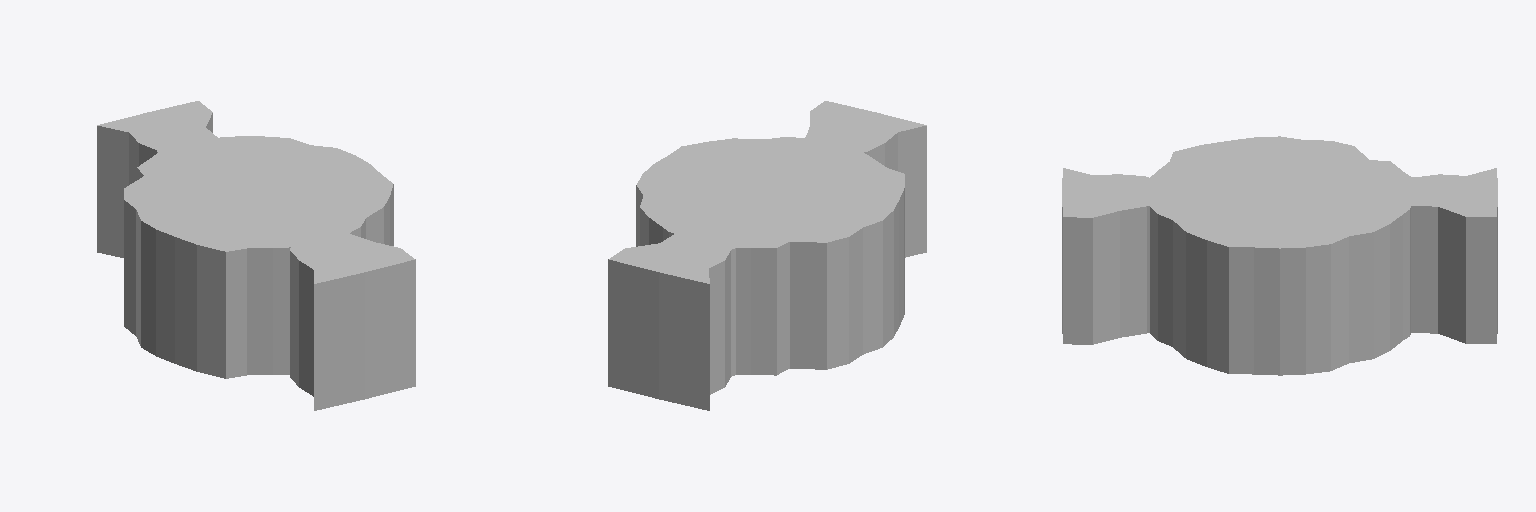
File: ash_twin.obj
3 renders of one model, left to right at view 1: azimuth 30°, elevation 25°; view 2: azimuth 150°, elevation 25°; view 3: azimuth 270°, elevation 25°, orthographic.
Parts seen in each view (by area): view 1: Ash_Twin; view 2: Ash_Twin; view 3: Ash_Twin.
Part boxes in pixels (x1,y1,x2,y2): Ash_Twin: (97,101,415,410); Ash_Twin: (608,101,926,410); Ash_Twin: (1062,136,1497,375).
Bounding box in the file's own units: 1.89 × 1 × 3.11.